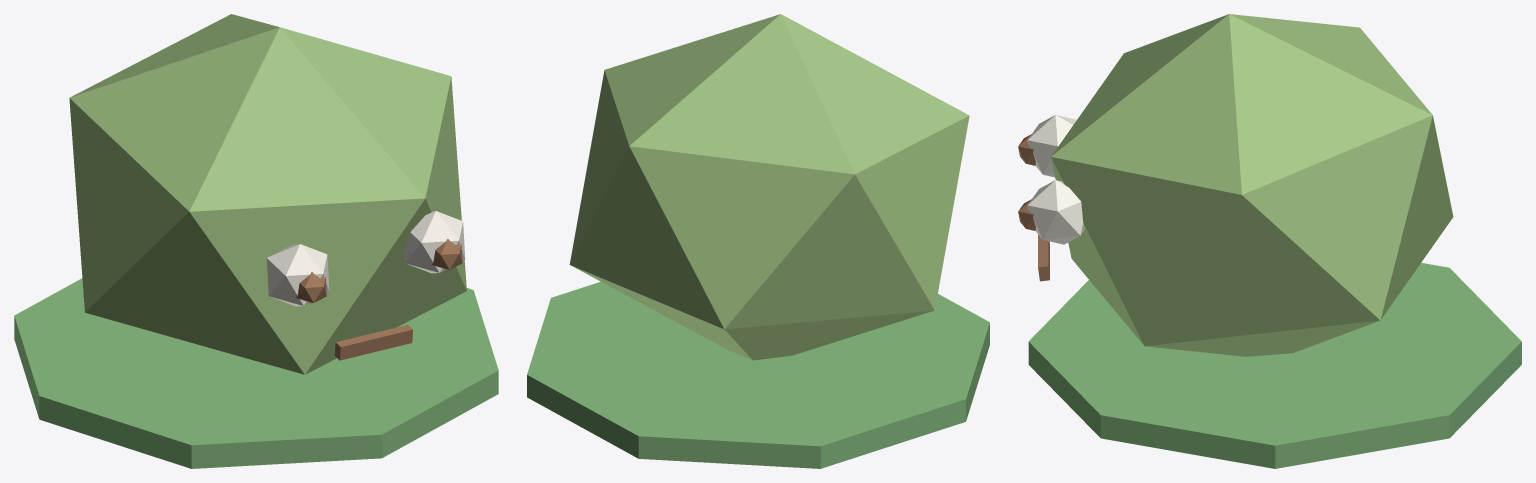
The model's file is npcpose_slime_attack_00.glb.
3 views of the same model, side by side, from view 1: azimuth 30°, elevation 25°; view 2: azimuth 150°, elevation 25°; view 3: azimuth 270°, elevation 25° (orthographic). The views are drawn at different scales.
Visible parts, largest first — view 1: npcpose; view 2: npcpose; view 3: npcpose.
Part boxes in pixels (box(x1,y1,x2,y2)): npcpose: box(14, 14, 498, 468); npcpose: box(527, 14, 989, 468); npcpose: box(1018, 14, 1521, 468).
Bounding box in the file's own units: 0.96 × 0.7532 × 0.9803.
